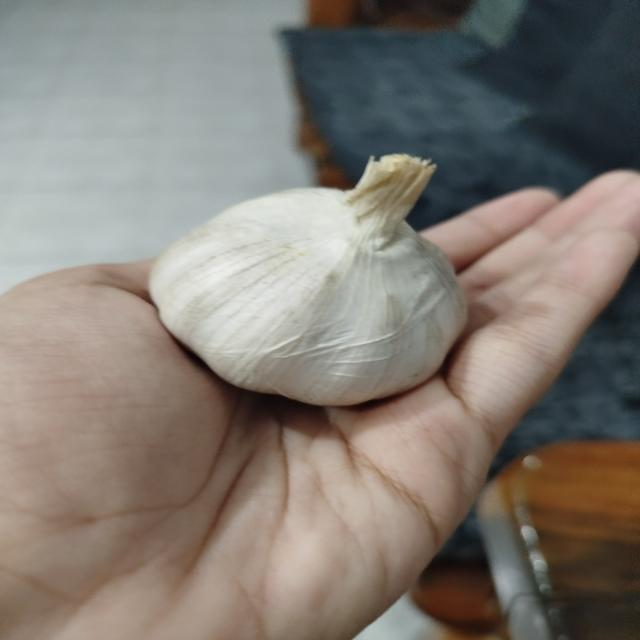garlic: (147, 152, 469, 407)
